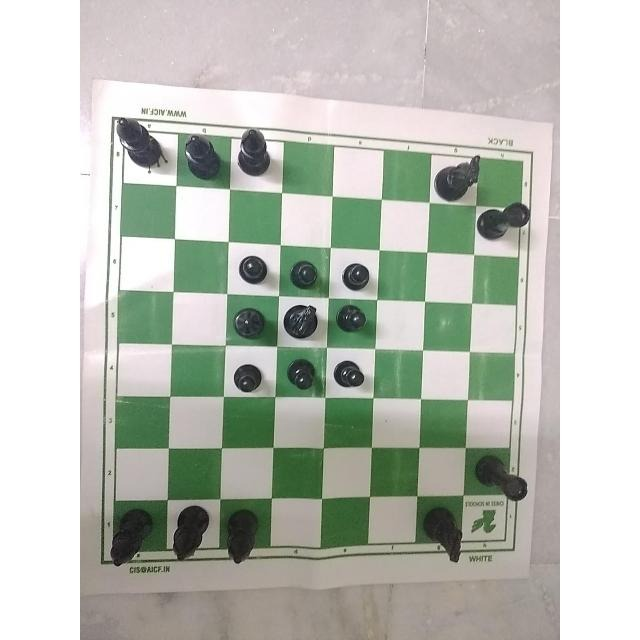black-bishop: (106, 502, 164, 582), (230, 121, 288, 189), (113, 113, 168, 181), (222, 496, 264, 570), (170, 504, 213, 572), (179, 127, 222, 189), (228, 300, 267, 344)
black-knight: (428, 145, 492, 212), (421, 500, 469, 571), (280, 301, 324, 337)
black-pawn: (334, 344, 381, 400), (225, 358, 271, 408), (330, 298, 375, 345), (337, 254, 387, 294), (280, 350, 321, 395), (238, 244, 280, 286), (289, 258, 322, 286)
black-rook: (479, 195, 539, 261), (470, 450, 527, 514)
